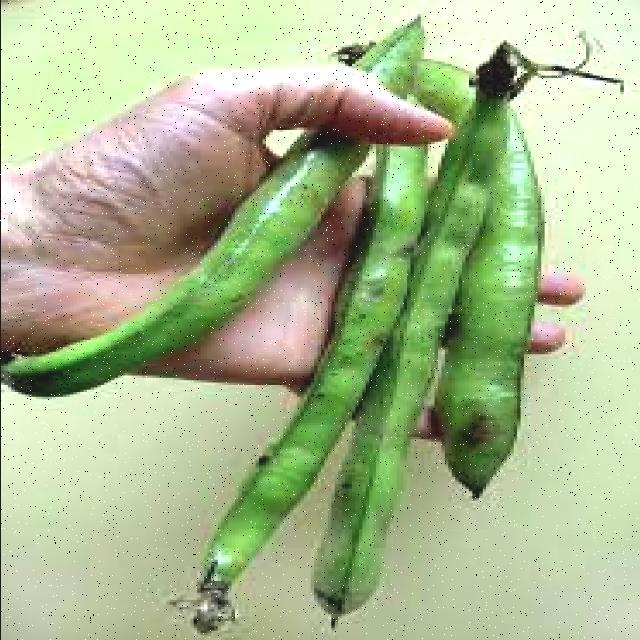Broad Beans: (193, 23, 559, 632), (2, 145, 370, 399), (353, 17, 424, 94)
